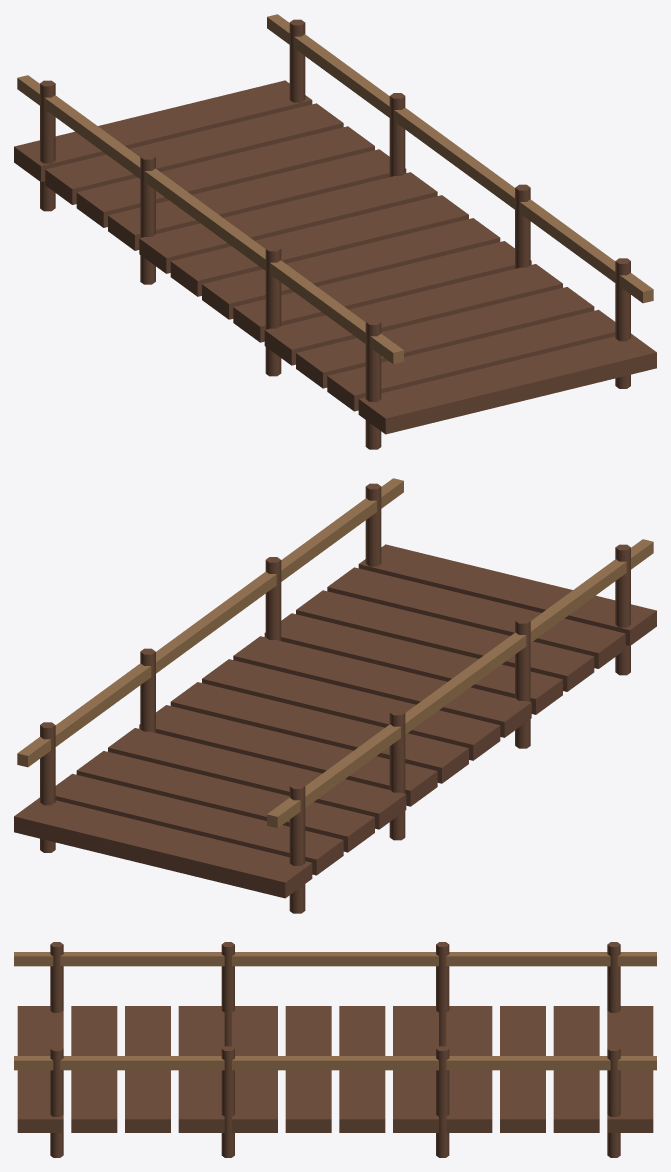
File: wooden-bridge.glb
3 views of the same model, one above another, from view 1: azimuth 30°, elevation 25°; view 2: azimuth 150°, elevation 25°; view 3: azimuth 270°, elevation 25° (orthographic). The views are drawn at different scales.
Bounding box in the file's own units: 5 × 2.2 × 12.
